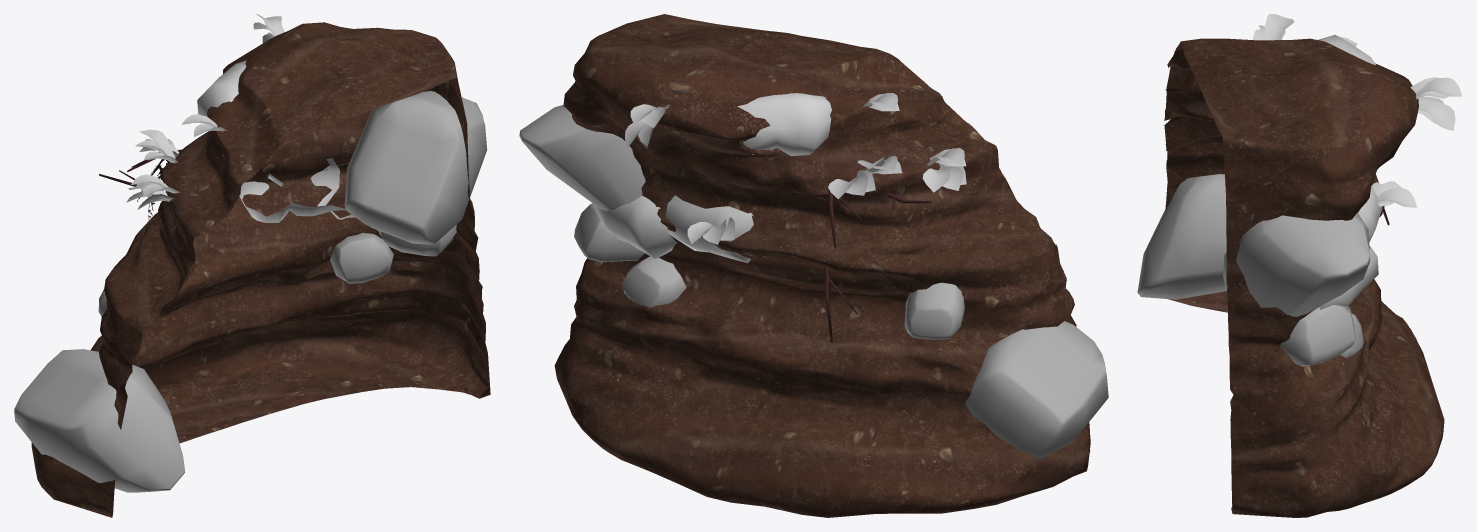
File: Jordvgg_right.fbx
3 views of the same model, side by side, from view 1: azimuth 30°, elevation 25°; view 2: azimuth 150°, elevation 25°; view 3: azimuth 270°, elevation 25° (orthographic). The views are drawn at different scales.
Visible parts, largest first — view 1: Cliffstone:polySurface4797; view 2: Cliffstone:polySurface4797; view 3: Cliffstone:polySurface4797.
Boxes of the visible parts, x1,y1,x2,y2 form: Cliffstone:polySurface4797: (14,14,490,517); Cliffstone:polySurface4797: (519,14,1108,517); Cliffstone:polySurface4797: (1137,14,1462,517).
Bounding box in the file's own units: 578 × 421 × 309.
